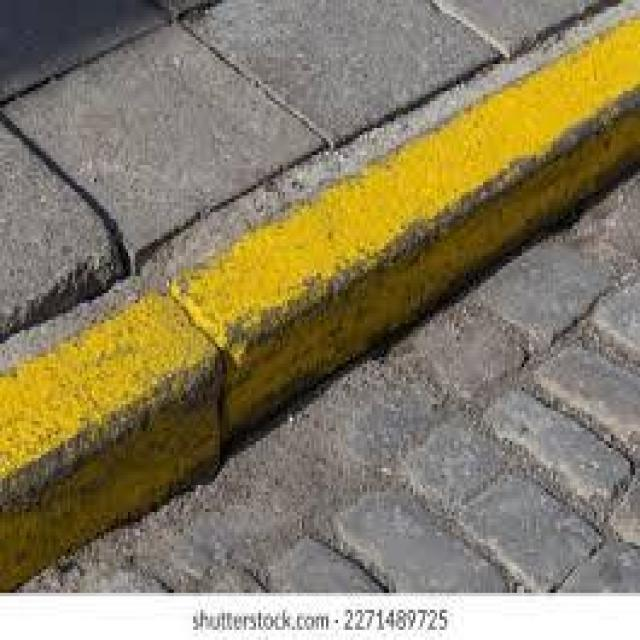curb: (190, 146, 548, 407), (1, 331, 248, 544), (457, 37, 640, 193)
